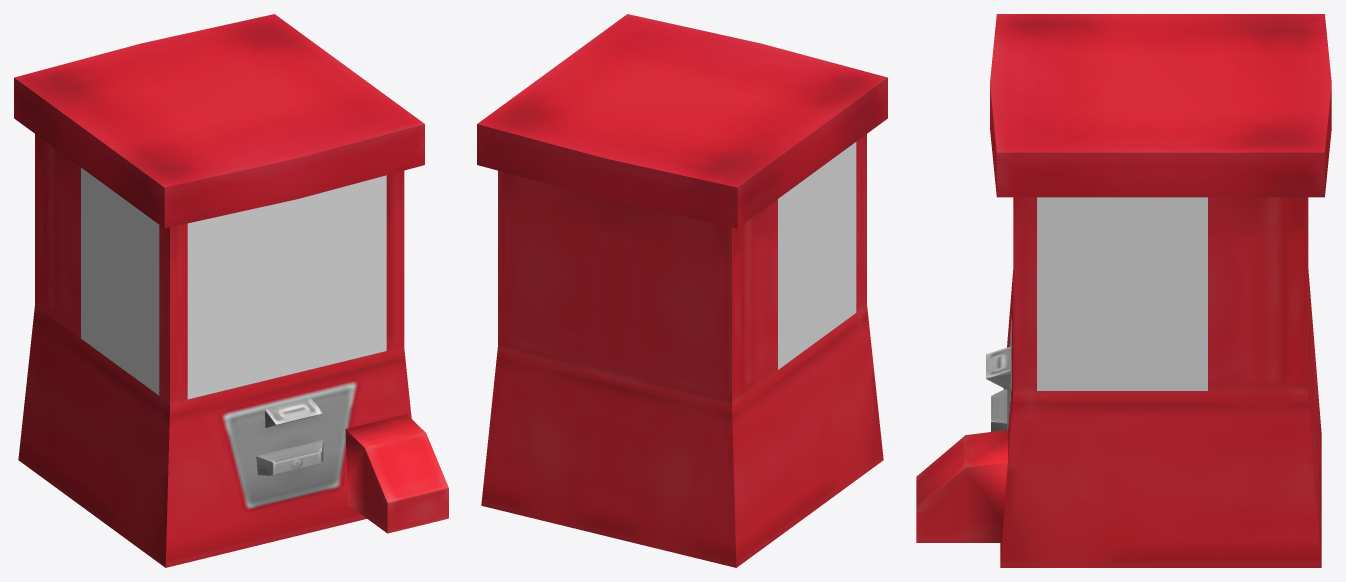
Rendered from CapsuleToyMachine_HD.fbx.
The picture shows the model from 3 angles, left to right: view 1: azimuth 30°, elevation 25°; view 2: azimuth 150°, elevation 25°; view 3: azimuth 270°, elevation 25°; orthographic projection. The views are drawn at different scales.
Visible parts, largest first — view 1: CapsuleToyMachine, CapsuleToyMachine.001; view 2: CapsuleToyMachine, CapsuleToyMachine.001; view 3: CapsuleToyMachine, CapsuleToyMachine.001.
Part boxes in pixels (x1=…): CapsuleToyMachine: x1=14, y1=14, x2=448, y2=567; CapsuleToyMachine.001: x1=81, y1=167, x2=386, y2=399; CapsuleToyMachine: x1=477, y1=14, x2=887, y2=567; CapsuleToyMachine.001: x1=778, y1=142, x2=856, y2=369; CapsuleToyMachine: x1=916, y1=14, x2=1331, y2=567; CapsuleToyMachine.001: x1=1037, y1=197, x2=1207, y2=390.
Bounding box in the file's own units: 0.3544 × 0.4967 × 0.449.
